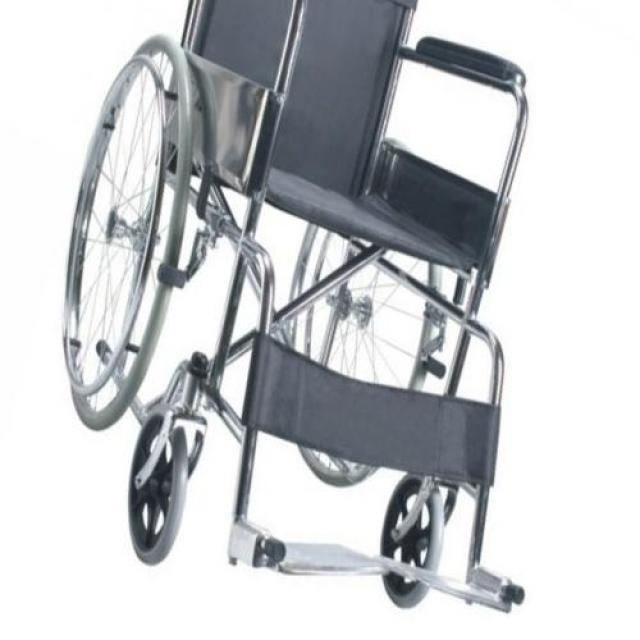wheelchair: (52, 0, 560, 622)
